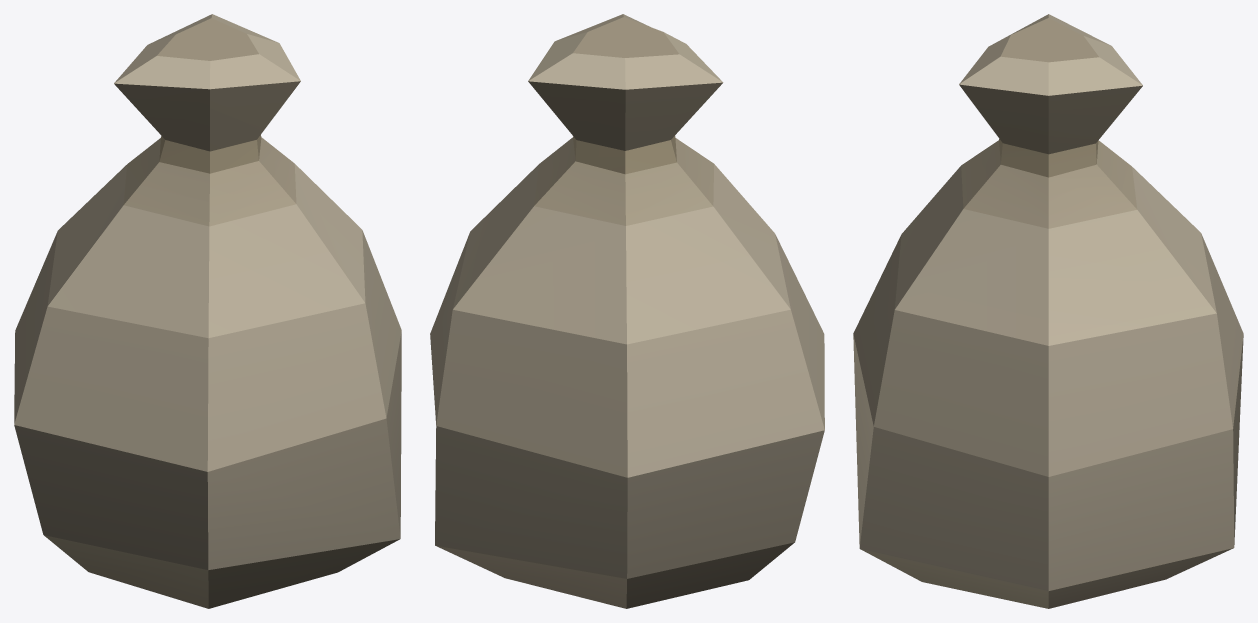
Rendered from sack.lod1.glb.
The picture shows the model from 3 angles, left to right: view 1: azimuth 30°, elevation 25°; view 2: azimuth 150°, elevation 25°; view 3: azimuth 270°, elevation 25°; orthographic projection.
Size of the model in its own units: 0.5886 by 0.725 by 0.5073.
